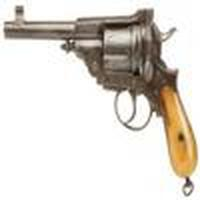gun: (4, 7, 200, 190)
